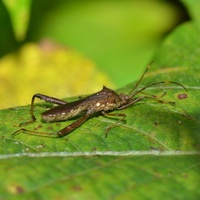insect: (12, 60, 186, 136)
